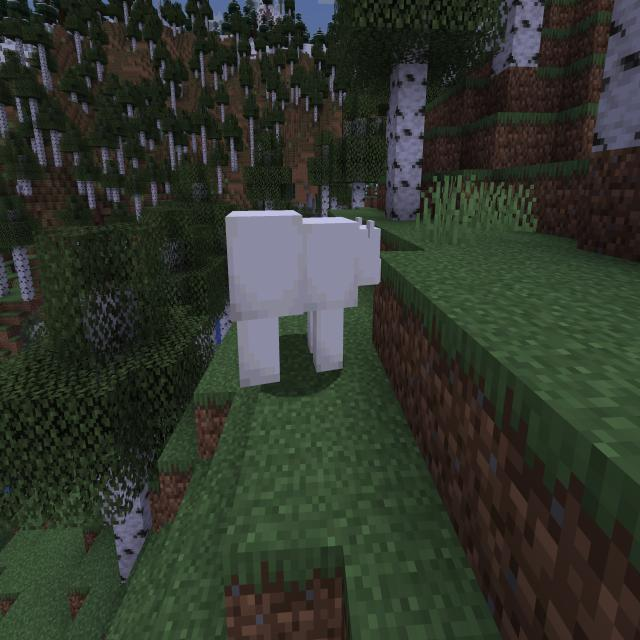Polar Bear: (224, 207, 384, 391)
